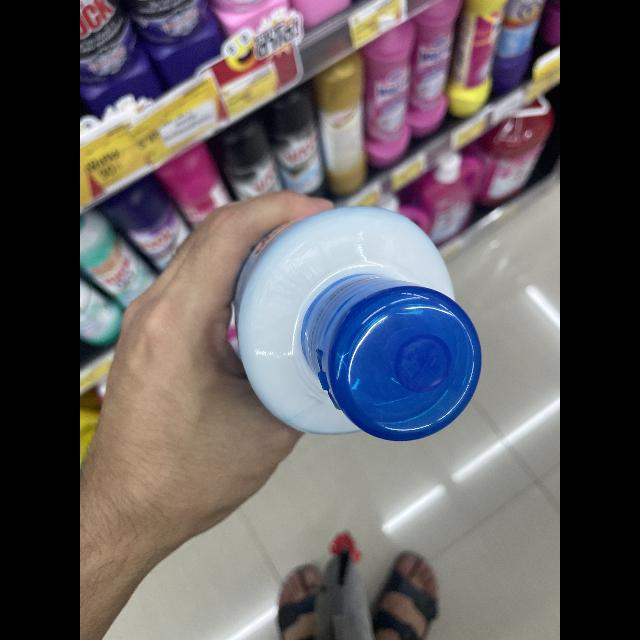chemical_plastic_bottle: (215, 196, 493, 448)
